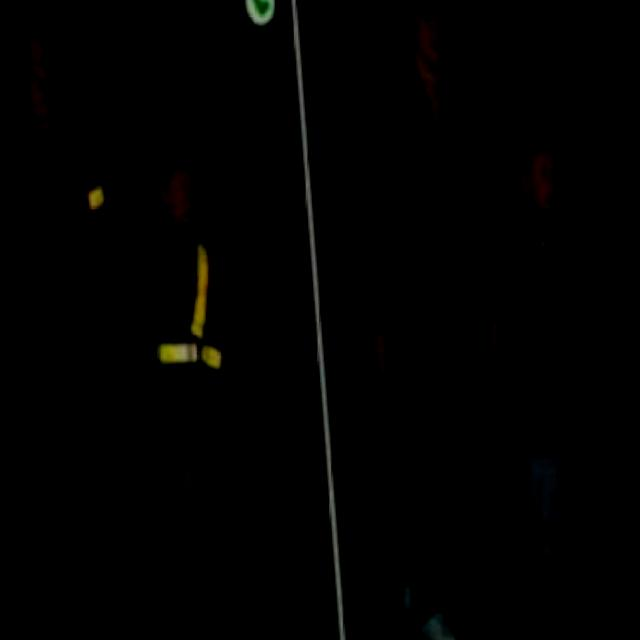Person: (334, 2, 527, 640), (0, 2, 142, 628), (104, 142, 266, 634), (485, 127, 629, 640)
